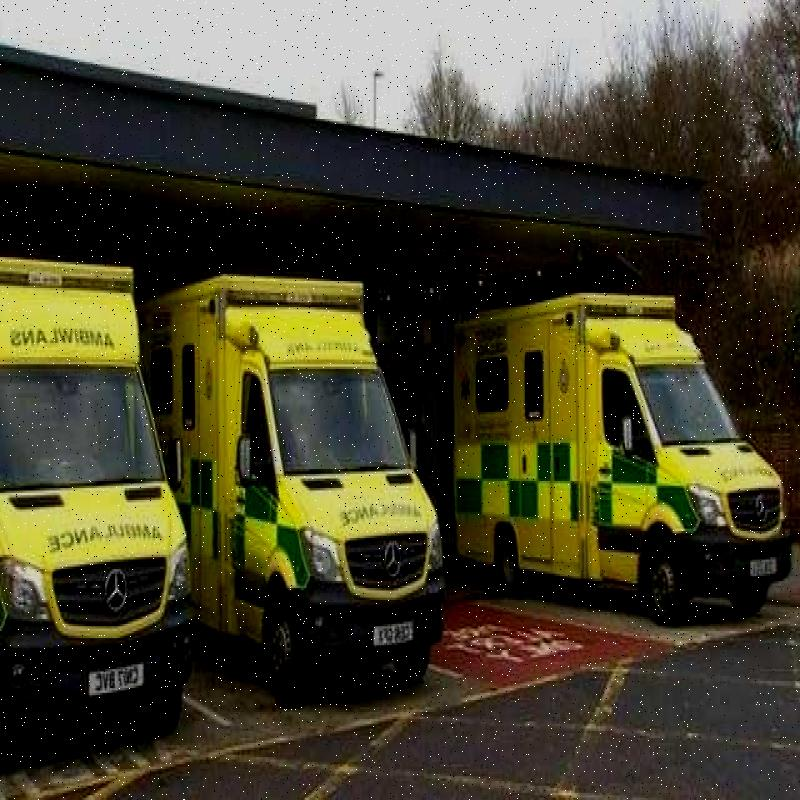AmbulanceSiren: (201, 269, 365, 331)
